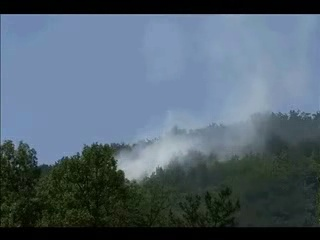smoke: (196, 14, 298, 166), (108, 129, 198, 184)
